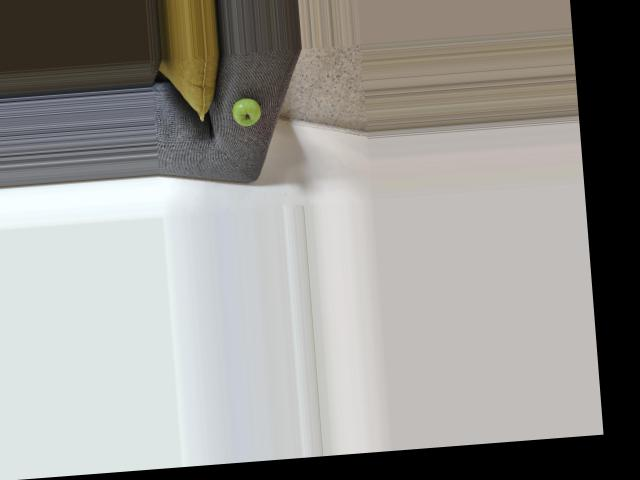apple: (229, 94, 262, 128)
